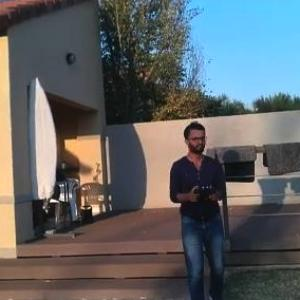follow: (167, 114, 235, 299)
